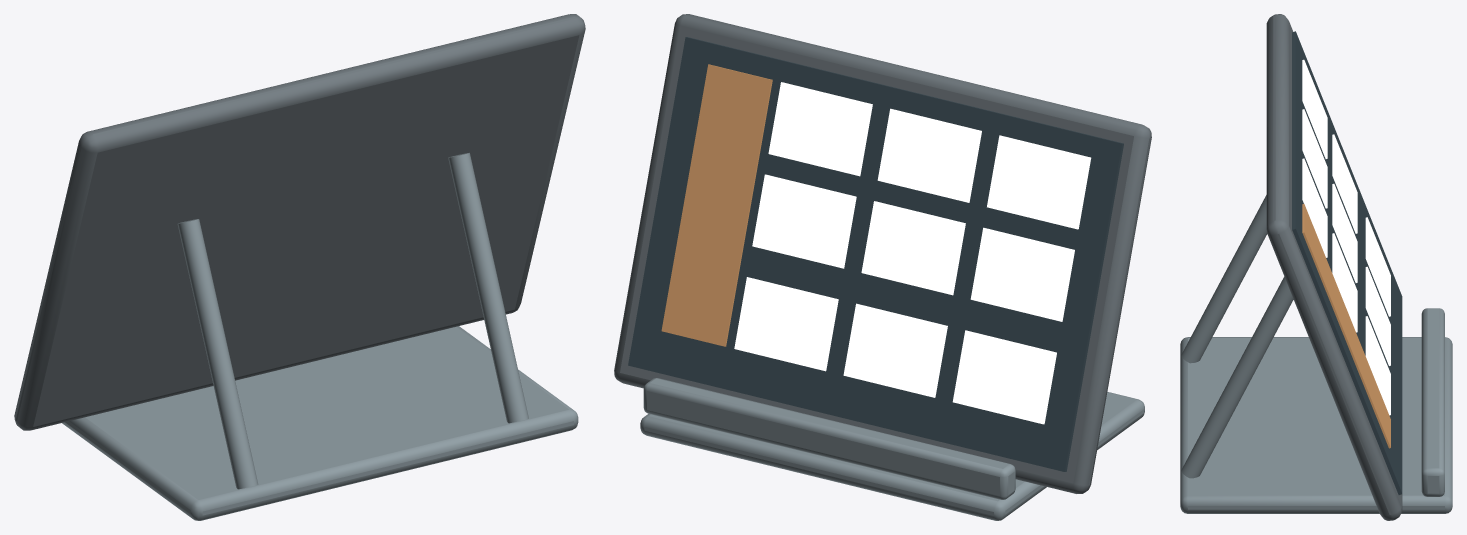
File: crew_tablet.glb
3 views of the same model, side by side, from view 1: azimuth 30°, elevation 25°; view 2: azimuth 150°, elevation 25°; view 3: azimuth 270°, elevation 25° (orthographic). The views are drawn at different scales.
Visible parts, largest first — view 1: tablet_body_graphite, stand_base_dark_alloy, stand_struts_dark_alloy; view 2: tablet_screen_dark_glass, tablet_tiles_screen_cyan, tablet_body_graphite, tablet_bar_orange, stand_lip_dark_alloy, stand_base_dark_alloy; view 3: stand_base_dark_alloy, tablet_body_graphite, tablet_tiles_screen_cyan, tablet_screen_dark_glass, stand_struts_dark_alloy, stand_lip_dark_alloy, tablet_bar_orange.
Boxes of the visible parts, box(x1,y1,x2,y2) form: tablet_body_graphite: box(14, 14, 585, 430); stand_base_dark_alloy: box(62, 326, 578, 520); stand_struts_dark_alloy: box(177, 152, 528, 489); tablet_screen_dark_glass: box(628, 37, 1123, 471); tablet_tiles_screen_cyan: box(734, 82, 1091, 424); tablet_body_graphite: box(614, 14, 1151, 493); tablet_bar_orange: box(661, 64, 772, 346); stand_lip_dark_alloy: box(643, 378, 1015, 499); stand_base_dark_alloy: box(640, 392, 1144, 520); stand_base_dark_alloy: box(1180, 337, 1452, 513); tablet_body_graphite: box(1266, 14, 1402, 520); tablet_tiles_screen_cyan: box(1302, 59, 1390, 415); tablet_screen_dark_glass: box(1292, 31, 1402, 494); stand_struts_dark_alloy: box(1181, 195, 1293, 478); stand_lip_dark_alloy: box(1421, 308, 1444, 496); tablet_bar_orange: box(1302, 204, 1390, 448).
Size of the model in its own units: 0.26 by 0.1796 by 0.14.
